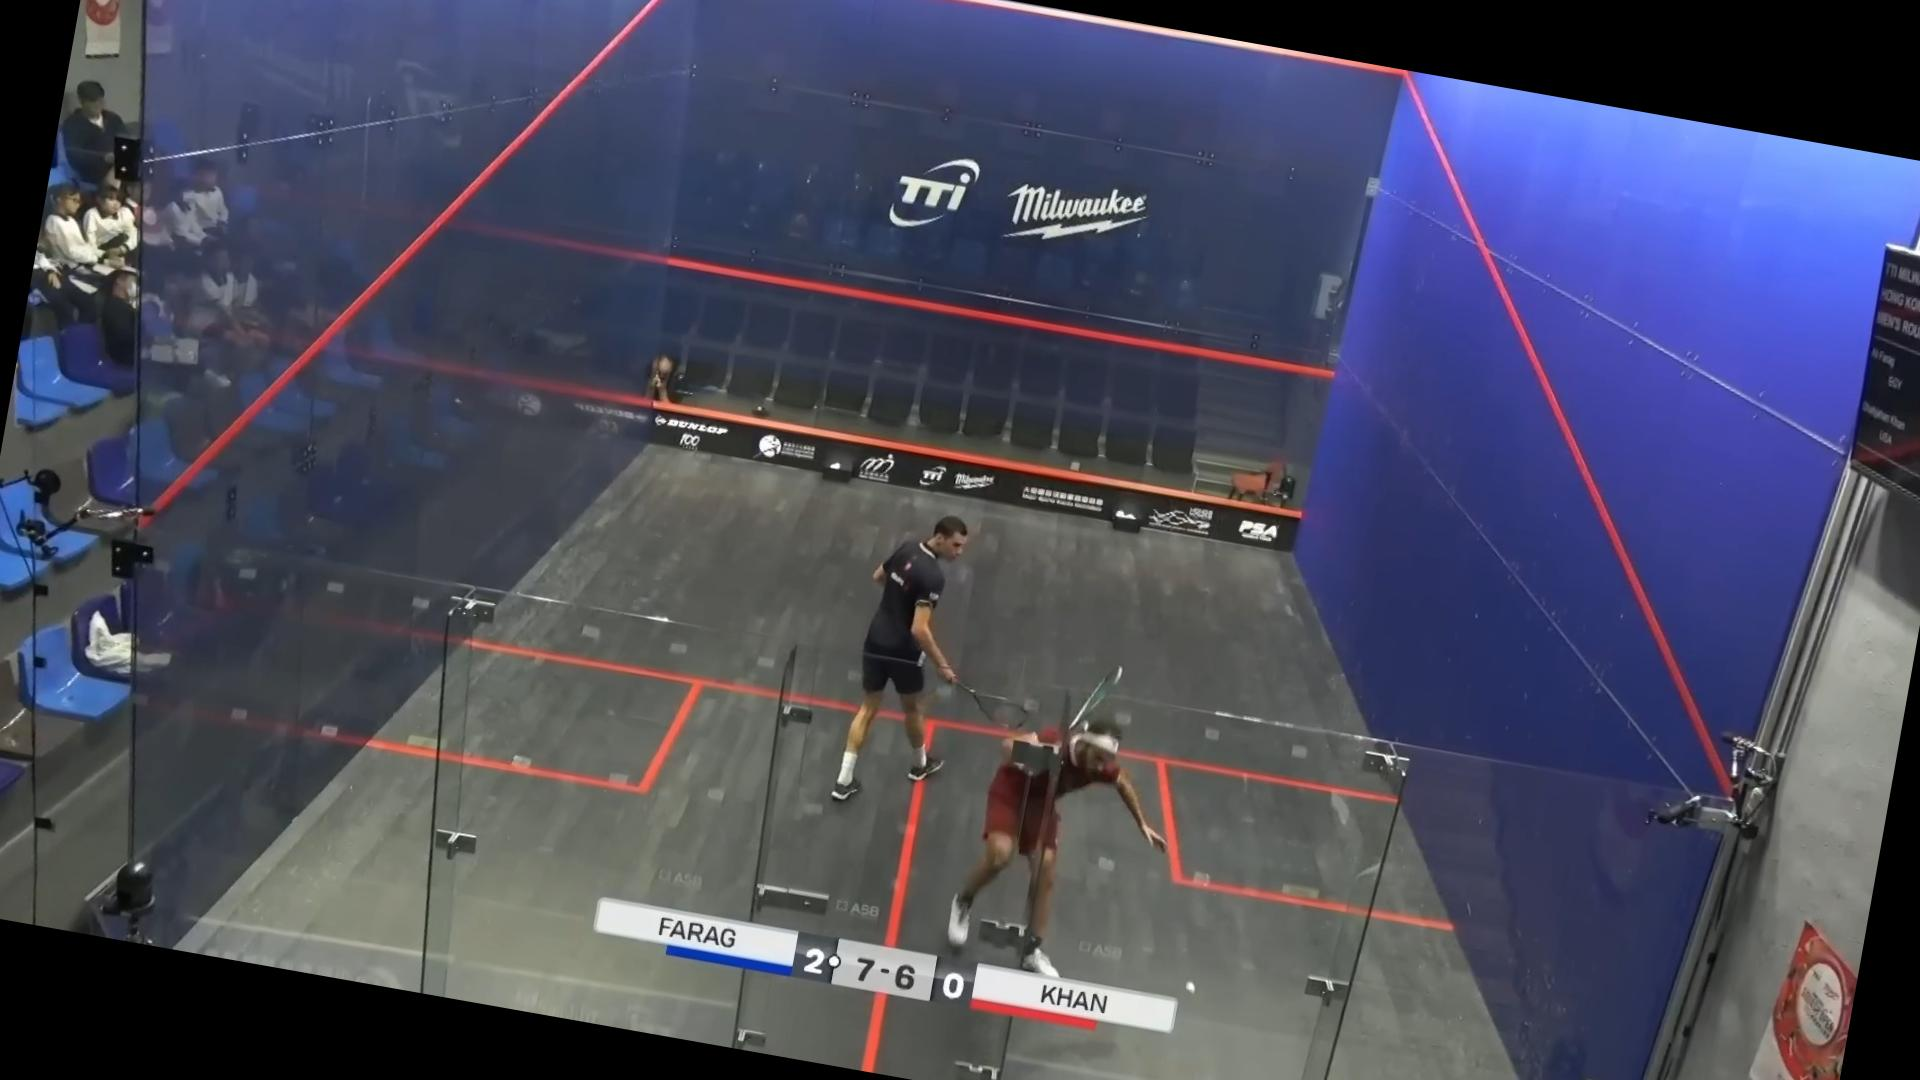Racket: (1044, 649, 1127, 770), (948, 680, 1036, 737)
